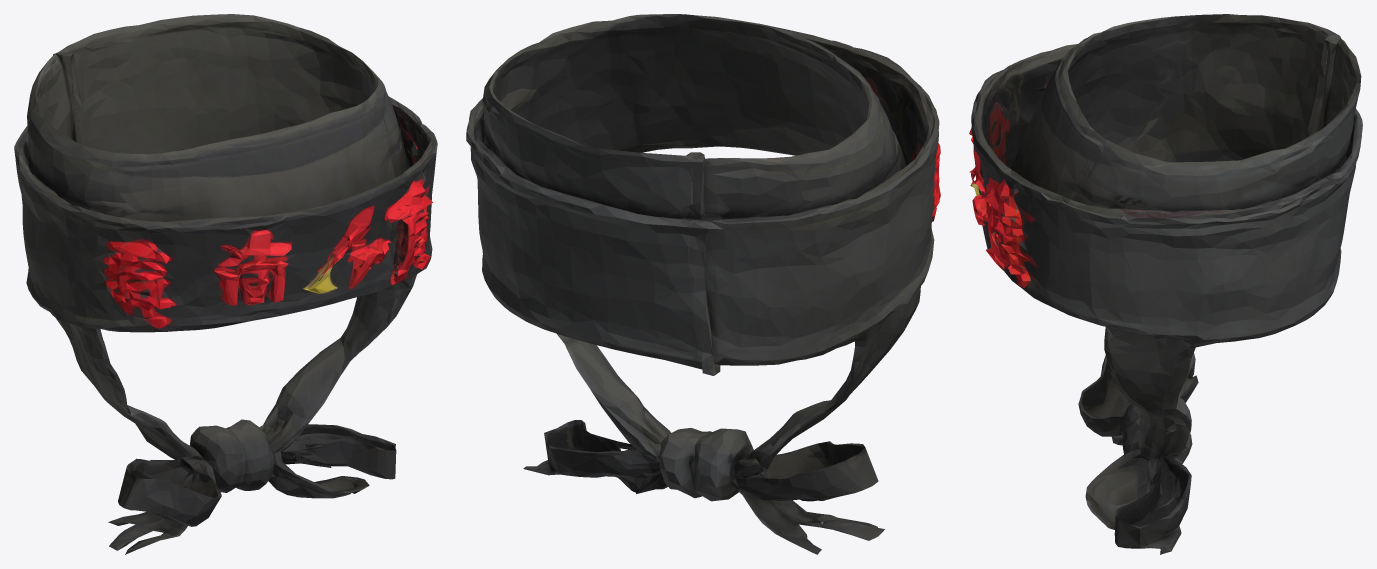
The model's file is kungfu_headband_0602105753_texture.fbx.
3 renders of one model, left to right at view 1: azimuth 30°, elevation 25°; view 2: azimuth 150°, elevation 25°; view 3: azimuth 270°, elevation 25°, orthographic. The views are drawn at different scales.
Parts seen in each view (by area): view 1: temp; view 2: temp; view 3: temp.
Part boxes in pixels (bbox=[...]): temp: bbox=[14, 14, 437, 554]; temp: bbox=[466, 14, 940, 554]; temp: bbox=[969, 14, 1362, 554].
Bounding box in the file's own units: 185 × 200 × 175.
Materials: 1 (1 with a texture image).
